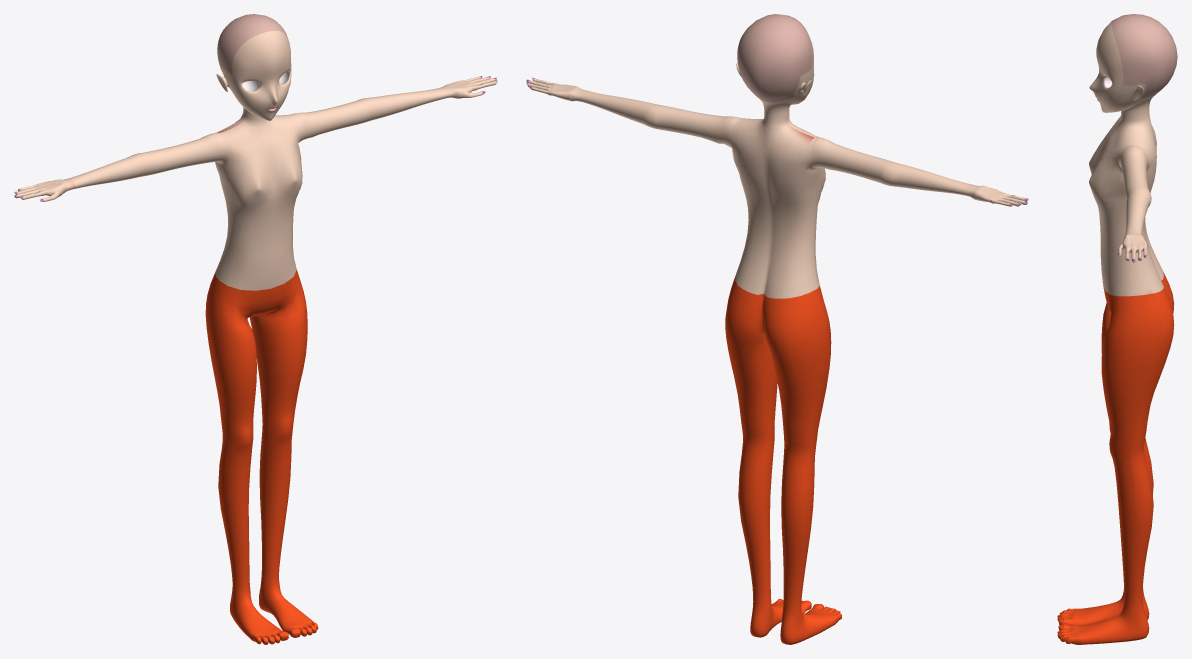
The model's file is testTest.obj.
3 renders of one model, left to right at view 1: azimuth 30°, elevation 25°; view 2: azimuth 150°, elevation 25°; view 3: azimuth 270°, elevation 25°, orthographic. The views are drawn at different scales.
Parts seen in each view (by area): view 1: characterbody; view 2: characterbody; view 3: characterbody.
Boxes of the visible parts, bbox=[...] form: characterbody: bbox=[14, 14, 497, 644]; characterbody: bbox=[526, 14, 1028, 644]; characterbody: bbox=[1057, 14, 1177, 644].
Size of the model in its own units: 1.43 by 1.69 by 0.3.
1 material, 1 textured.
